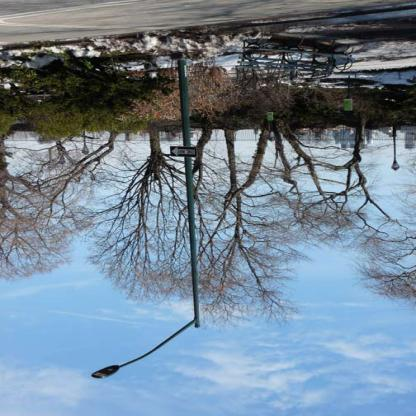Streetlights 1: (65, 28, 242, 398)
